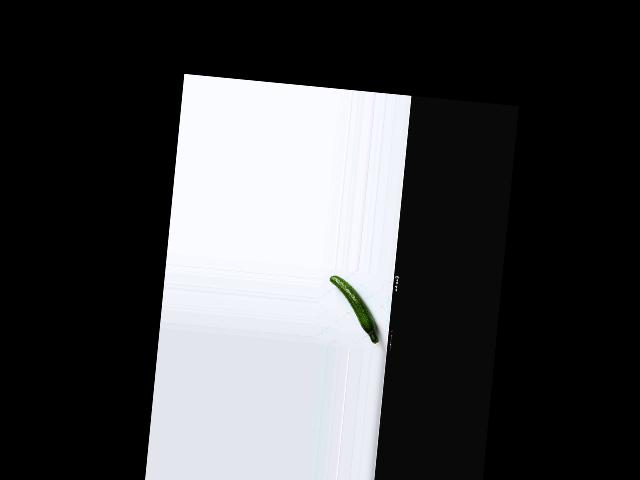cucumber: (324, 275, 384, 344)
